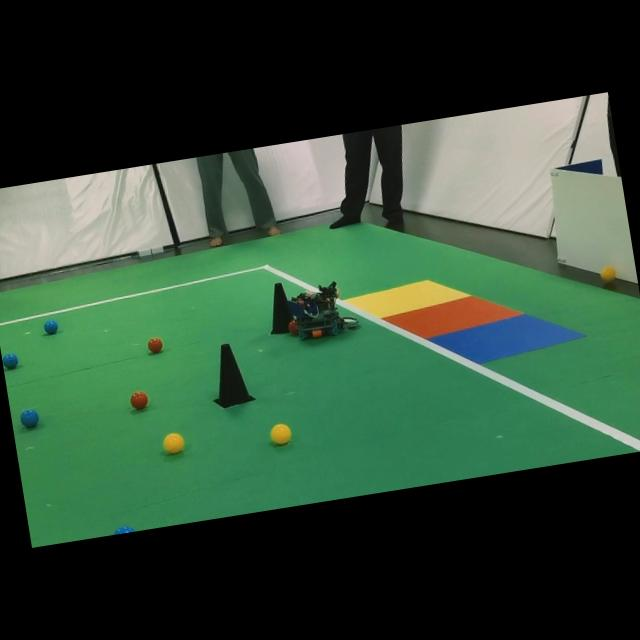ball: (163, 433, 184, 454), (270, 424, 291, 444), (130, 391, 148, 410), (21, 410, 39, 427), (600, 266, 617, 282), (2, 353, 18, 369), (148, 337, 163, 353), (44, 320, 59, 335), (115, 525, 136, 535), (288, 320, 298, 337)
goal: (431, 314, 584, 362), (385, 296, 521, 338), (346, 280, 471, 318)
